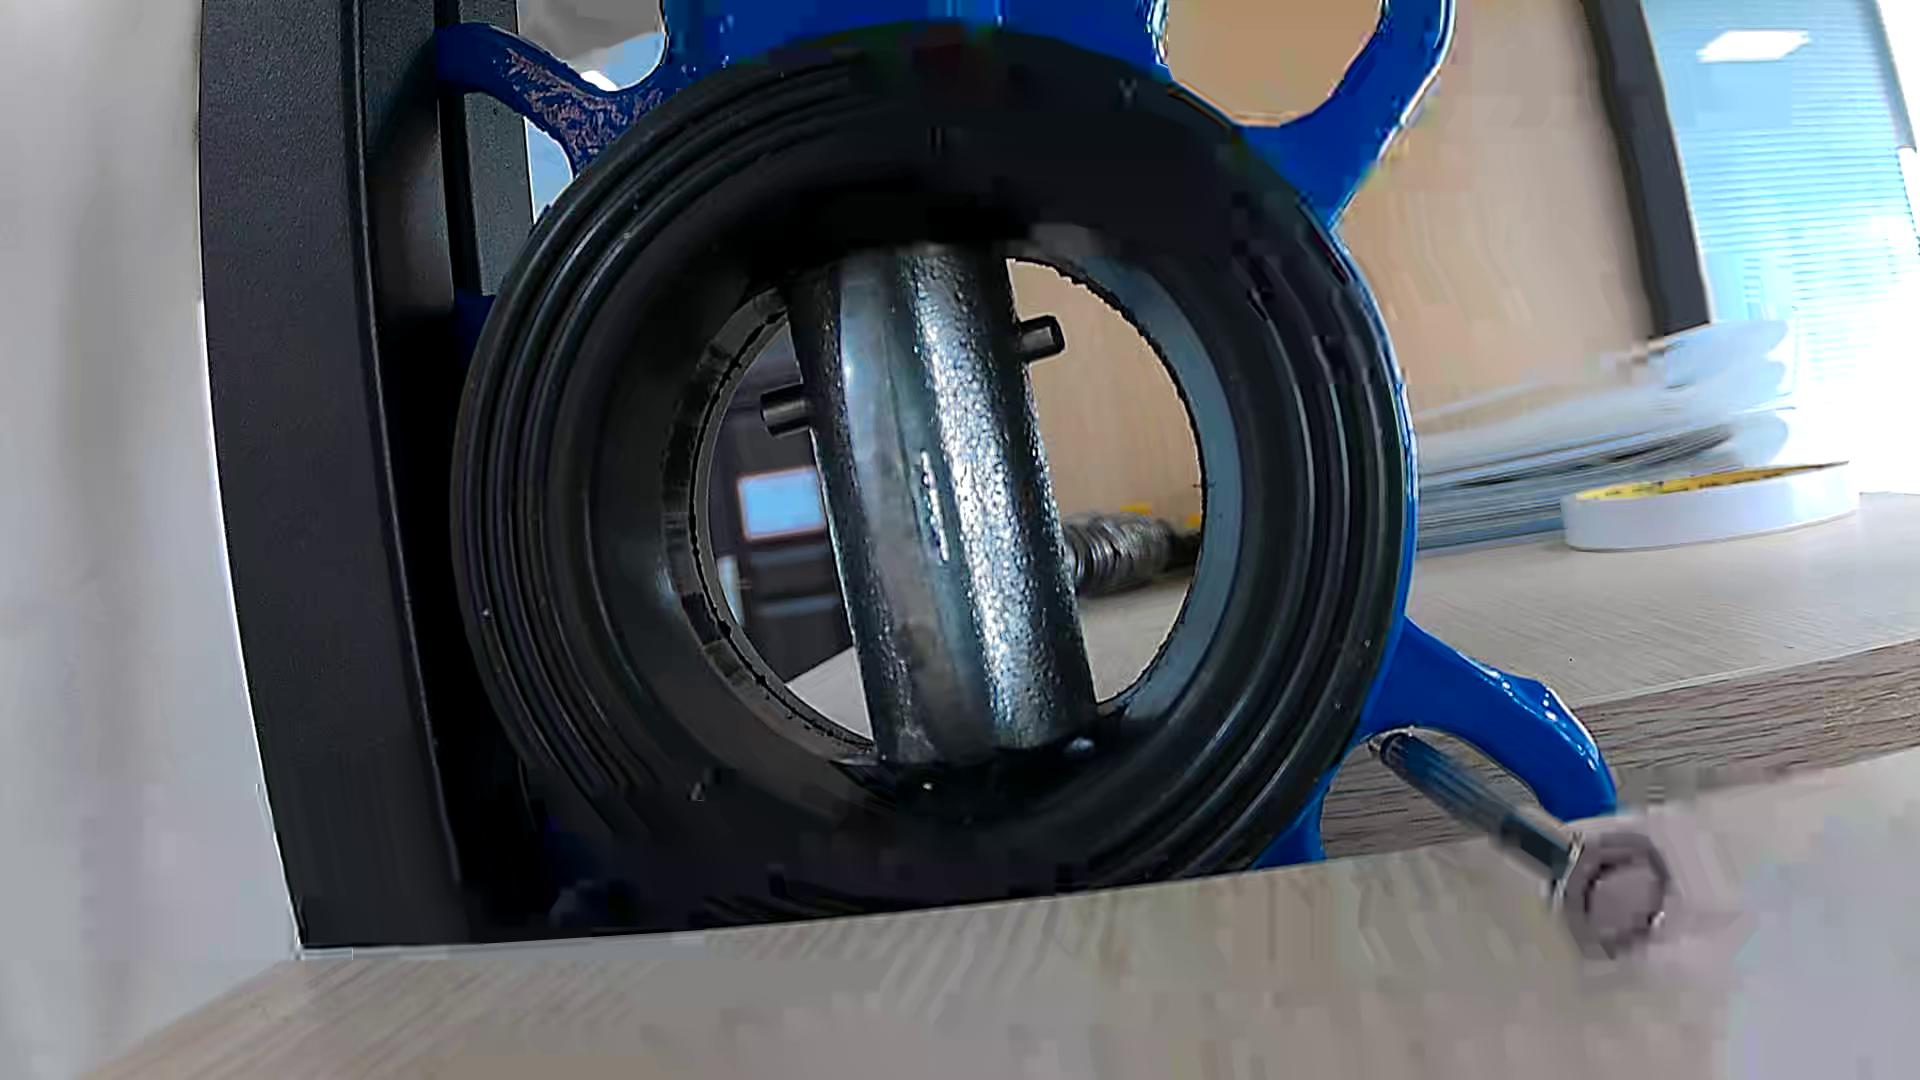empty: (708, 252, 1200, 754)
valve: (760, 244, 1097, 769)
